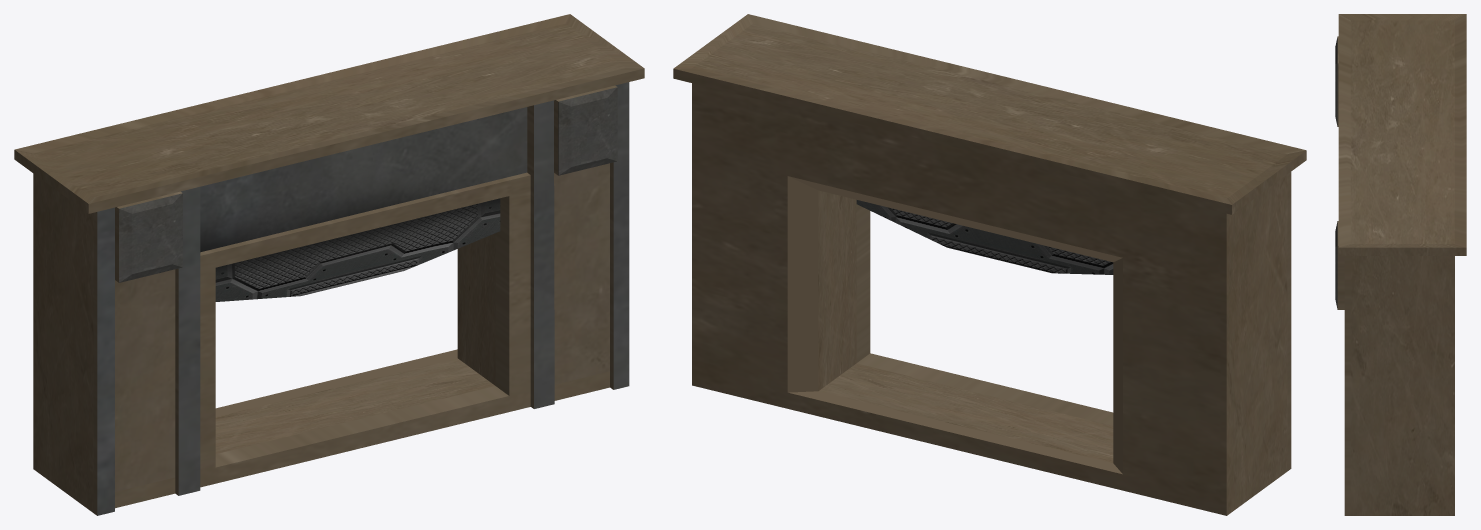
Rendered from spawnAberto.obj.
The picture shows the model from 3 angles, left to right: view 1: azimuth 30°, elevation 25°; view 2: azimuth 150°, elevation 25°; view 3: azimuth 270°, elevation 25°; orthographic projection. The views are drawn at different scales.
Visible parts, largest first — view 1: Cube.001_Cube.002; view 2: Cube.001_Cube.002; view 3: Cube.001_Cube.002.
Part boxes in pixels (x1,y1,x2,y2): Cube.001_Cube.002: (14,14,644,515); Cube.001_Cube.002: (673,14,1306,515); Cube.001_Cube.002: (1335,14,1466,515).
Bounding box in the file's own units: 38.46 × 20.99 × 9.15.
